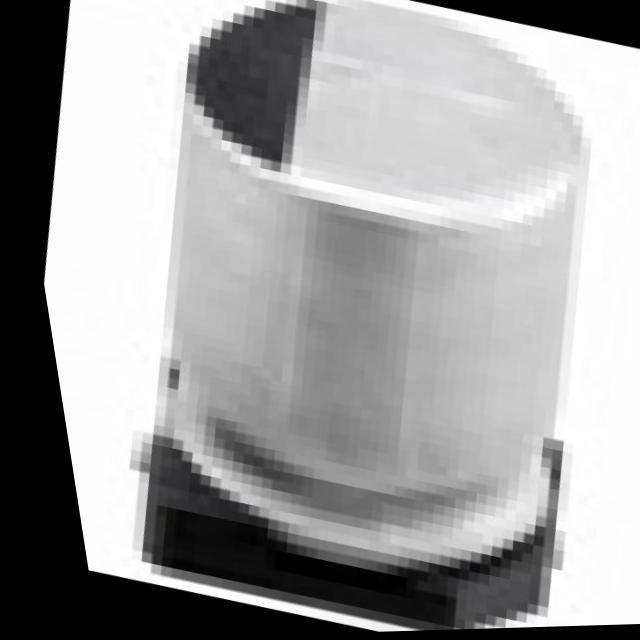Capacitor: (30, 0, 640, 627)
